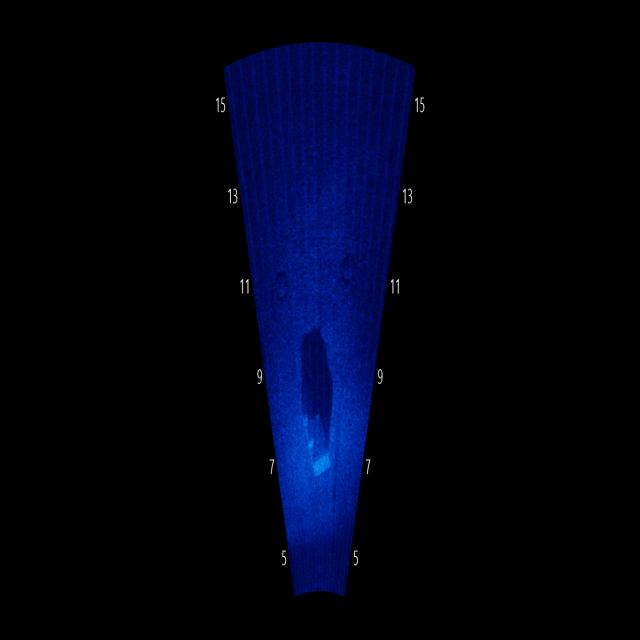square: (296, 390, 339, 507)
